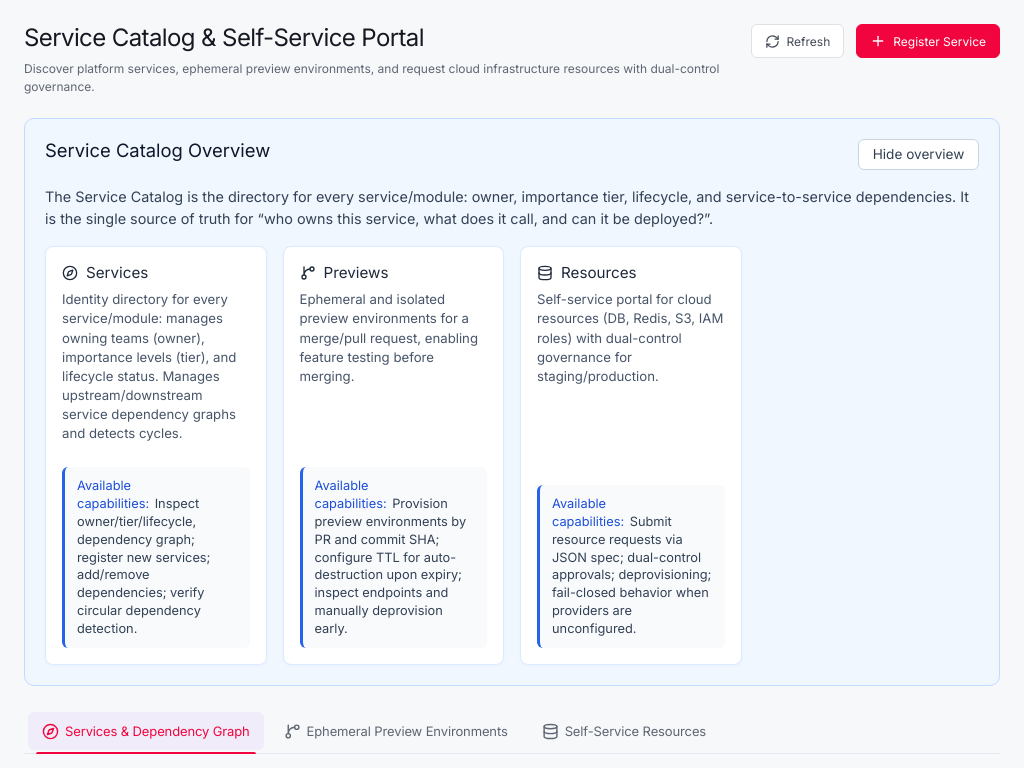
Catalog explanations, intro panel and contextual hints › shows contextual hint on each tab above its content
This screenshot has width=1024, height=768.
# Tab 2: Previews
Click the tab "Ephemeral Preview Environments" at (396, 731), box [270,712,522,750]
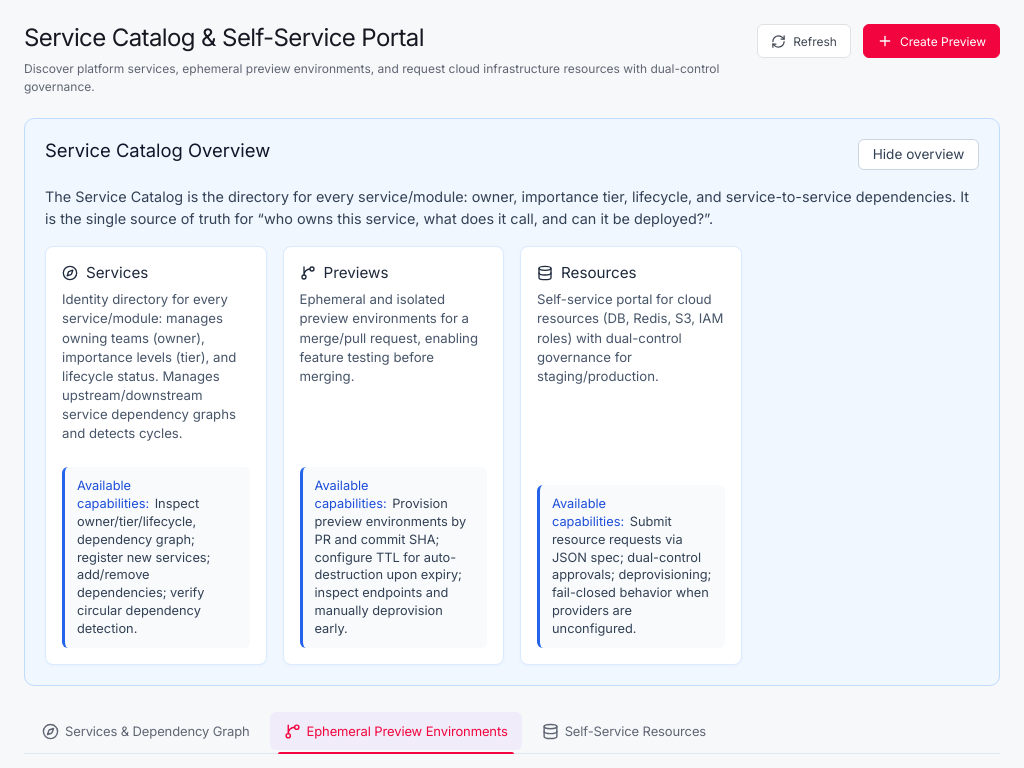
# Tab 3: Resources
Click the tab "Self-Service Resources" at (624, 731), box [528,712,720,750]
(page scrolled)
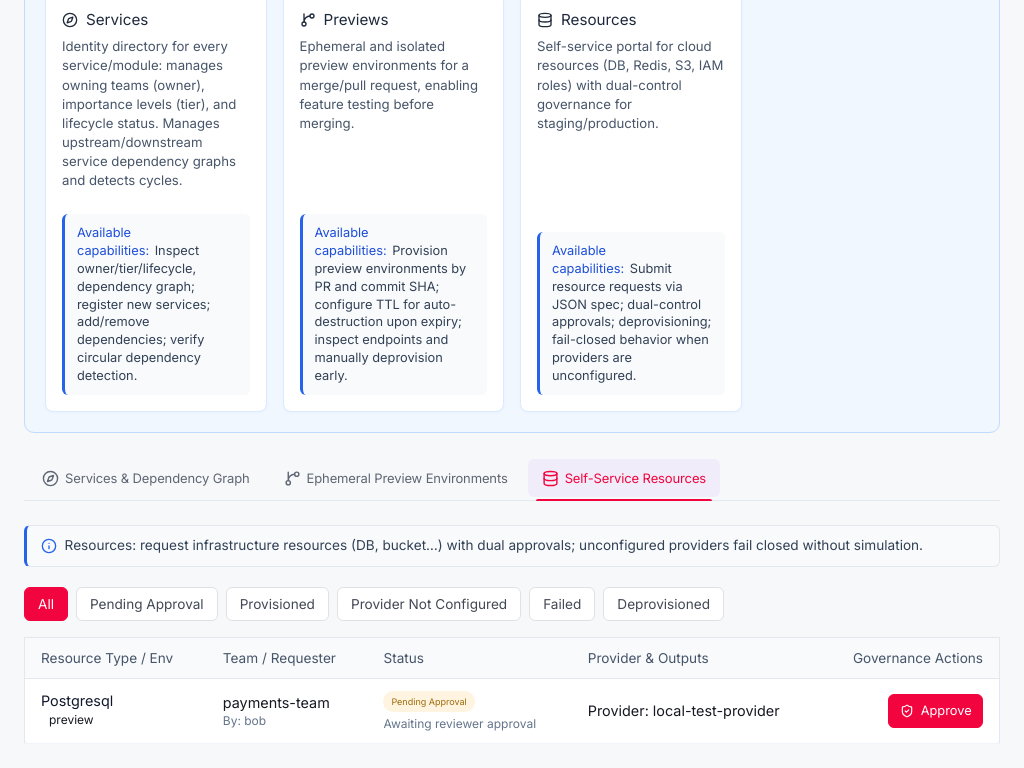
Result: the text "Resources: request infrastructure resources (DB, bucket…) with dual approvals; unconfigured providers fail closed with" is shown at [65,537,923,553]
